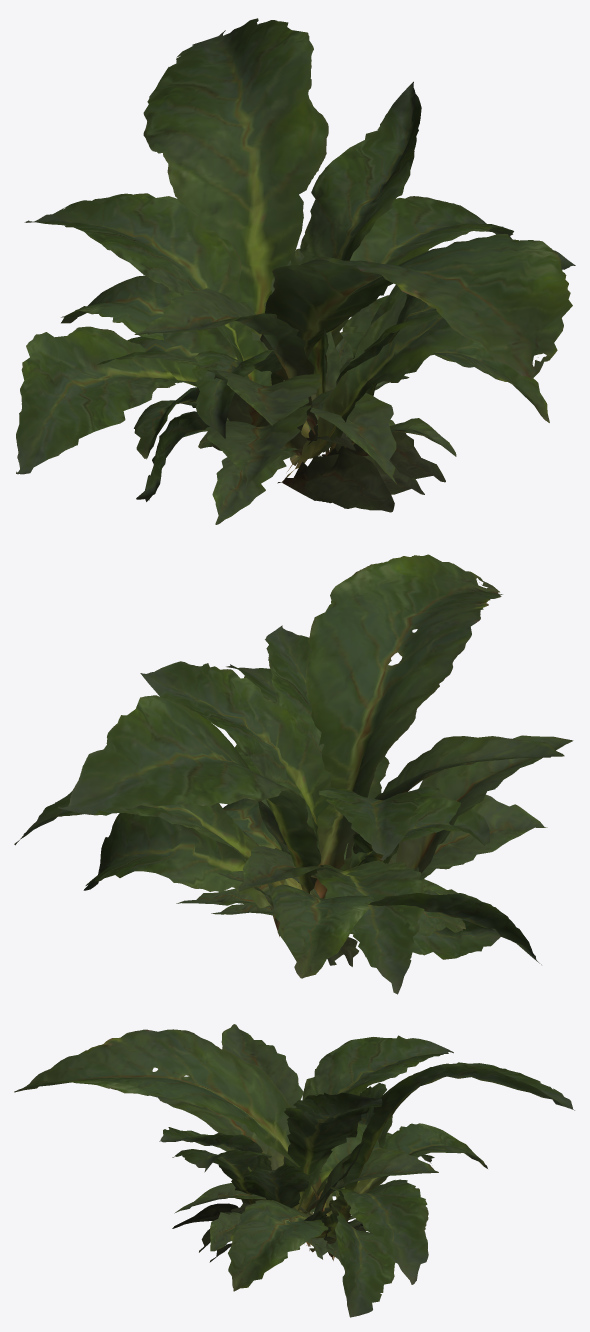
File: anthurium-botany-01.glb
3 renders of one model, top to bottom at view 1: azimuth 30°, elevation 25°; view 2: azimuth 150°, elevation 25°; view 3: azimuth 270°, elevation 25°, orthographic. The views are drawn at different scales.
Visible parts, largest first — view 1: anthurium_botany_01_a, anthurium_botany_01_b, anthurium_botany_01_c, anthurium_botany_04_d; view 2: anthurium_botany_01_a, anthurium_botany_01_b, anthurium_botany_01_c, anthurium_botany_04_d, anthurium_botany_06_f; view 3: anthurium_botany_01_a, anthurium_botany_01_b, anthurium_botany_01_c, anthurium_botany_04_d, anthurium_botany_05_e.
Part boxes in pixels (left/top/right/bottom): anthurium_botany_01_a: left=16, top=18, right=572, bottom=483; anthurium_botany_01_b: left=96, top=81, right=575, bottom=512; anthurium_botany_01_c: left=24, top=193, right=552, bottom=503; anthurium_botany_04_d: left=212, top=248, right=445, bottom=524; anthurium_botany_01_a: left=14, top=554, right=541, bottom=978; anthurium_botany_01_b: left=83, top=625, right=564, bottom=994; anthurium_botany_01_c: left=226, top=664, right=573, bottom=894; anthurium_botany_04_d: left=176, top=730, right=457, bottom=965; anthurium_botany_06_f: left=211, top=868, right=414, bottom=966; anthurium_botany_01_a: left=14, top=1029, right=574, bottom=1291; anthurium_botany_01_b: left=159, top=1024, right=434, bottom=1317; anthurium_botany_01_c: left=150, top=1035, right=453, bottom=1259; anthurium_botany_04_d: left=209, top=1142, right=364, bottom=1265; anthurium_botany_05_e: left=224, top=1199, right=362, bottom=1260.
Size of the model in its own units: 0.8838 by 0.4929 by 1.13.
6 materials, 6 textured.
